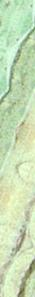Tomato leaf late blight: (0, 76, 35, 221)
